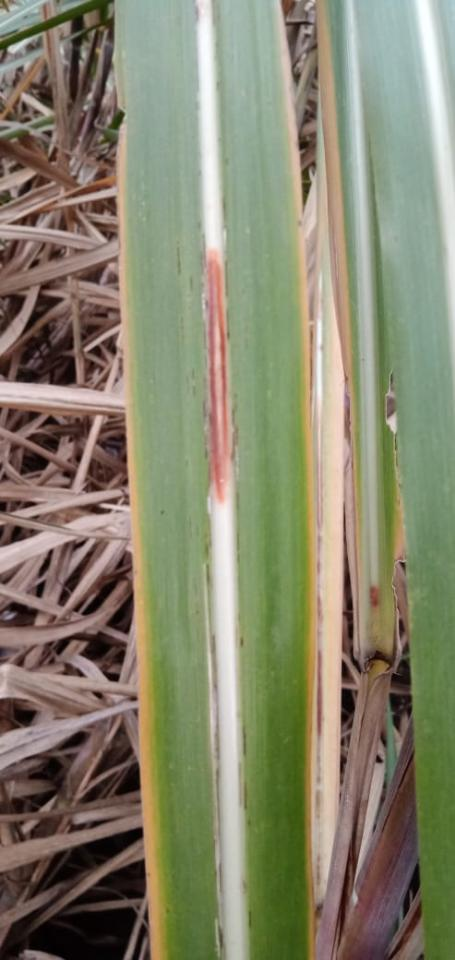RedRot: (202, 242, 234, 514)
Yellow: (274, 0, 319, 955), (116, 118, 159, 959)
